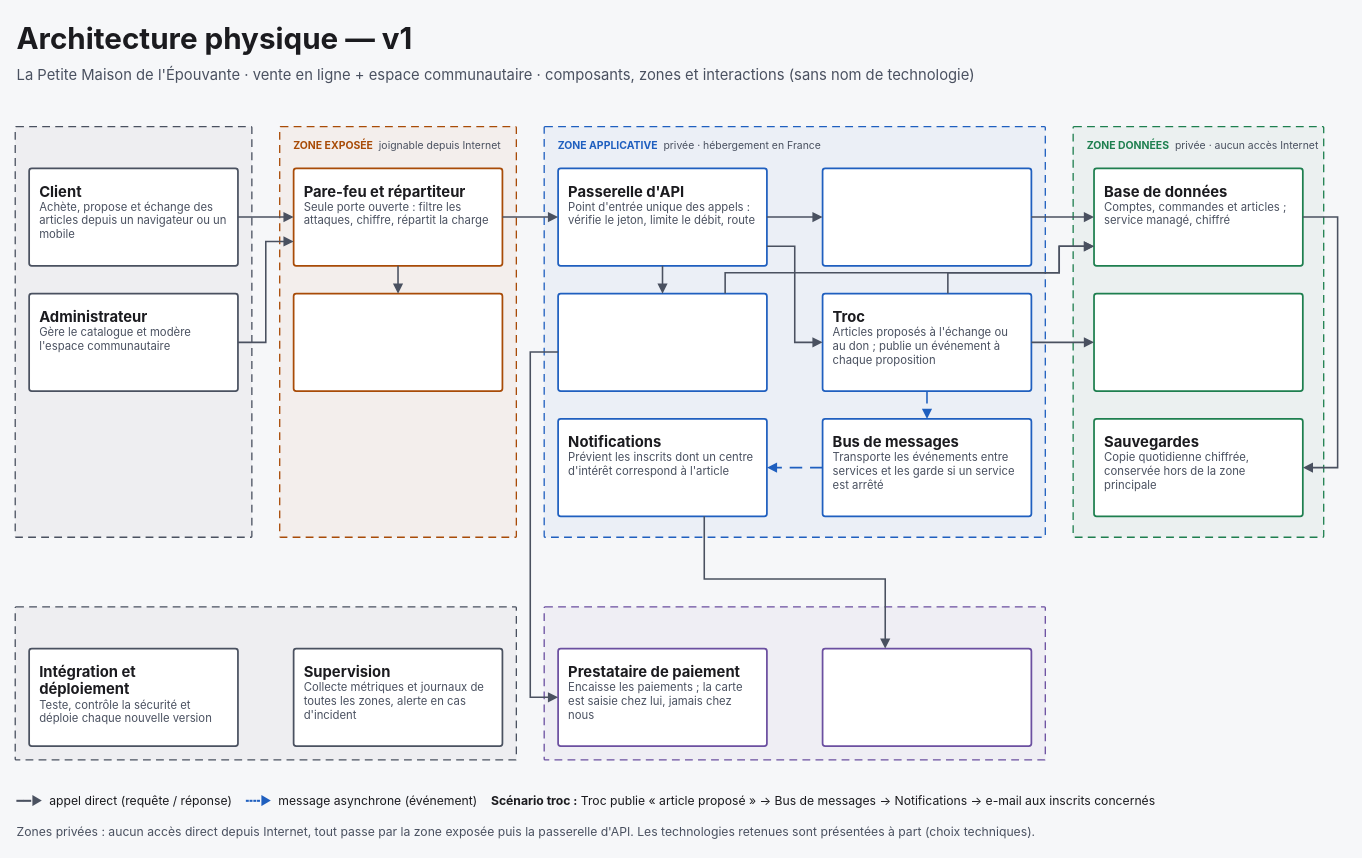
This 1362x858 diagram has some shape labels left out. Each missing label, with the box of its shape:
Application web Fournit les pages du site et du back-office au navigateur: (292, 292, 503, 392)
Authentification Comptes, connexion et rôles ; délivre les jetons d'accès: (821, 167, 1032, 266)
Boutique Catalogue, panier et commandes de la vente en ligne: (557, 292, 767, 392)
Envoi d'e-mails Envoie les notifications et les confirmations de commande: (821, 647, 1032, 746)
EXPLOITATION agit sur toutes les zones: (14, 606, 517, 760)
SERVICES EXTERNES prestataires certifiés: (543, 606, 1046, 760)
Stockage de fichiers Photos des articles et des produits: (1093, 292, 1303, 392)
UTILISATEURS Internet: (14, 126, 252, 537)
